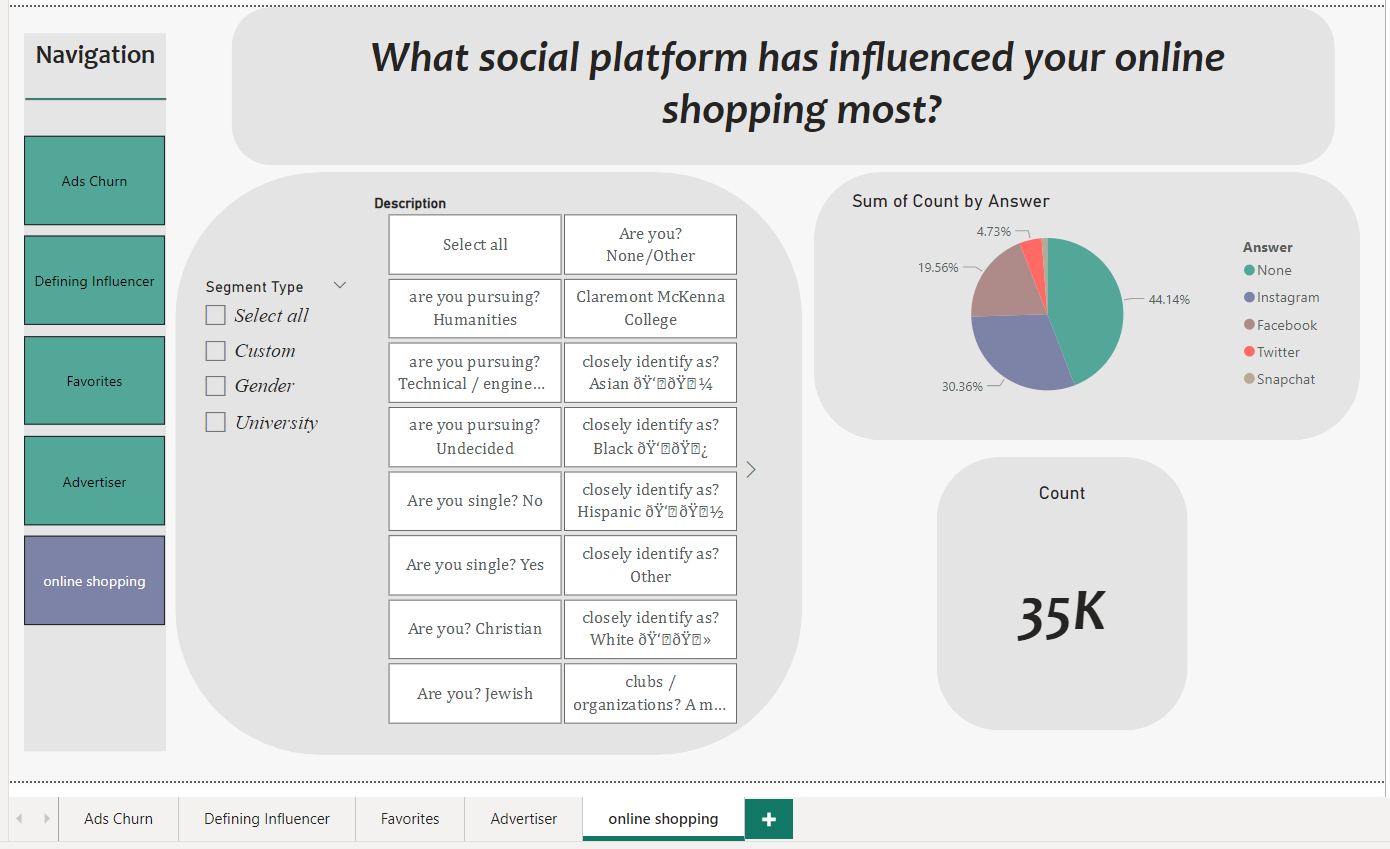

This screenshot's page, from the dashboard's own definition file:
{"tool":"powerbi","page":{"name":"online shopping","canvas":[1280,720],"ordinal":4},"visuals":[{"type":"shape","box":[13.7,24.7,131.7,668.3],"z":0},{"type":"shape","box":[207.2,0,1026.4,146.8],"z":1000},{"type":"shape","box":[155.1,153.7,583.2,542],"z":2000},{"type":"shape","box":[862.8,418.6,233.7,254.7],"z":3000},{"type":"shape","box":[749.2,153.7,507.7,249.7],"z":4000},{"type":"card","fields":{"Values":["Min(online_shoping_influencer.Question)"]},"box":[241.5,0,992.1,126.2],"z":5000},{"type":"card","title":"Count","fields":{"Values":["Sum(online_shoping_influencer.Count)"]},"box":[880.2,441.9,198.8,208.1],"z":6000},{"type":"slicer","fields":{"Values":["online_shoping_influencer.Segment Description"]},"box":[326.6,170.2,374.6,503.6],"z":7000},{"type":"pieChart","fields":{"Category":["online_shoping_influencer.Answer"],"Y":["Sum(online_shoping_influencer.Count)"]},"box":[779.1,169.8,454.7,212.8],"z":8000},{"type":"slicer","fields":{"Values":["online_shoping_influencer.Segment Type"]},"box":[169.8,246.5,157,229.1],"z":9000},{"type":"textbox","box":[0,24.4,160.5,58.1],"z":11000},{"type":"shape","box":[15.1,74.4,131.4,22.1],"z":12000},{"type":"pageNavigator","box":[14,119.8,131.4,458.1],"z":12001}]}

Visuals, with their boxes on the page's 1280x720 design canvas (x1, y1, x2, y2). These are canvas units, not pixel positions in the 1390x849 screenshot, which may show the page scaled, cropped or inside an application window:
shape: [14, 25, 145, 693]
shape: [207, 0, 1234, 147]
shape: [155, 154, 738, 696]
shape: [863, 419, 1096, 673]
shape: [749, 154, 1257, 403]
card - Min(online_shoping_influencer.Question): [242, 0, 1234, 126]
"Count" card: [880, 442, 1079, 650]
slicer - online_shoping_influencer.Segment Description: [327, 170, 701, 674]
pieChart - online_shoping_influencer.Answer x Sum(online_shoping_influencer.Count): [779, 170, 1234, 383]
slicer - online_shoping_influencer.Segment Type: [170, 246, 327, 476]
textbox: [0, 24, 160, 82]
shape: [15, 74, 146, 96]
pageNavigator: [14, 120, 145, 578]
